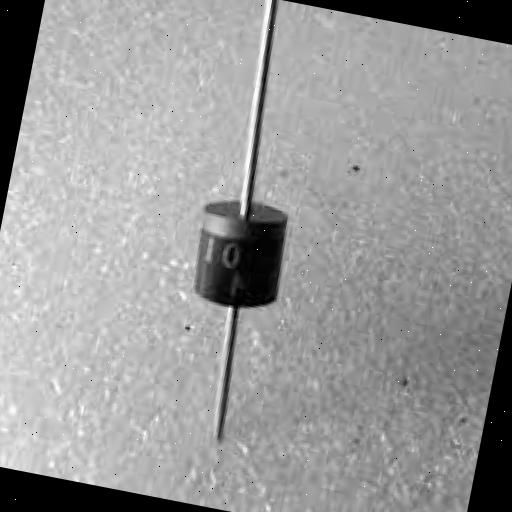DIODE: (141, 153, 398, 415)
